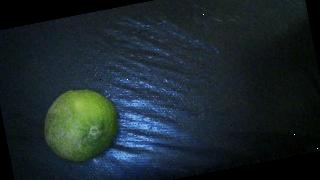DESECHO: (38, 83, 125, 167)
